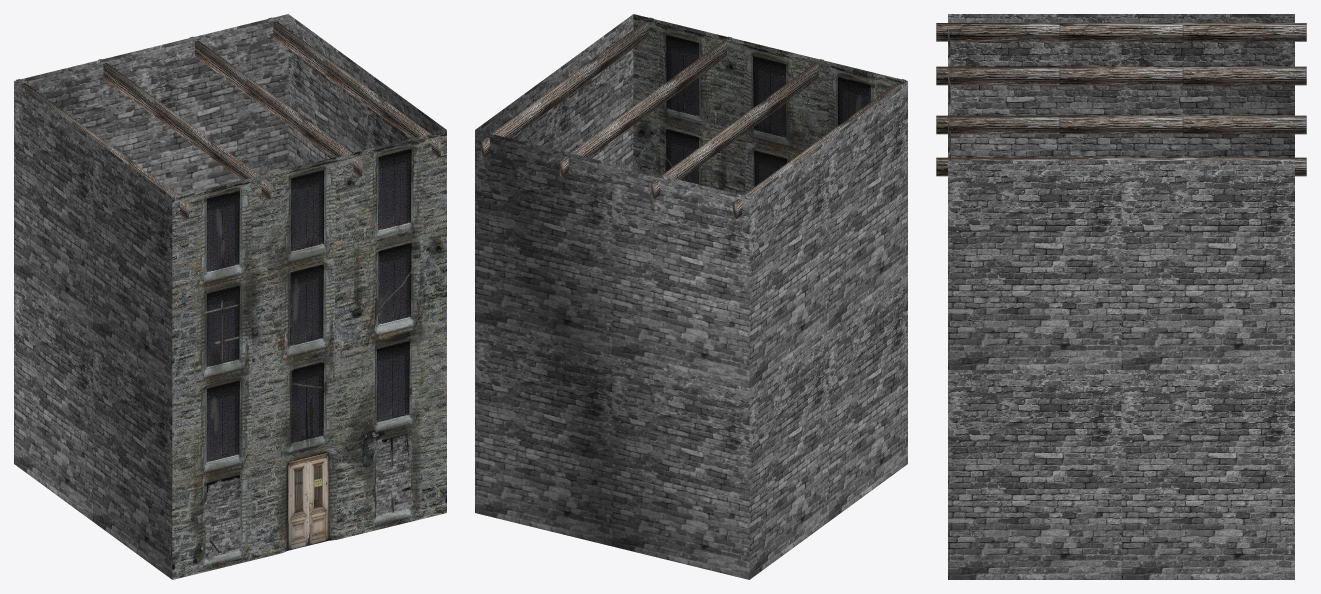
File: destroyed-building.glb
3 renders of one model, left to right at view 1: azimuth 30°, elevation 25°; view 2: azimuth 150°, elevation 25°; view 3: azimuth 270°, elevation 25°, orthographic. The views are drawn at different scales.
Parts seen in each view (by area): view 1: Object_2, Object_3, Object_4; view 2: Object_3, Object_2, Object_4; view 3: Object_3, Object_4.
Part boxes in pixels (bbox=[...]): Object_2: bbox=[172, 130, 446, 579]; Object_3: bbox=[14, 14, 446, 579]; Object_4: bbox=[16, 17, 440, 218]; Object_3: bbox=[475, 14, 907, 579]; Object_2: bbox=[633, 14, 907, 195]; Object_4: bbox=[481, 17, 905, 218]; Object_3: bbox=[948, 14, 1294, 579]; Object_4: bbox=[936, 23, 1306, 176].
Bounding box in the file's own units: 13.5 × 18 × 14.4.
3 materials, 3 textured.
